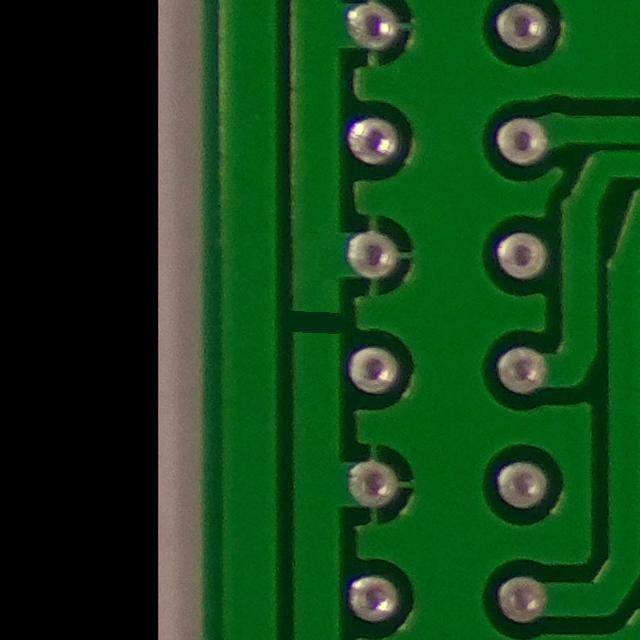open_circuit: (277, 289, 362, 352)
